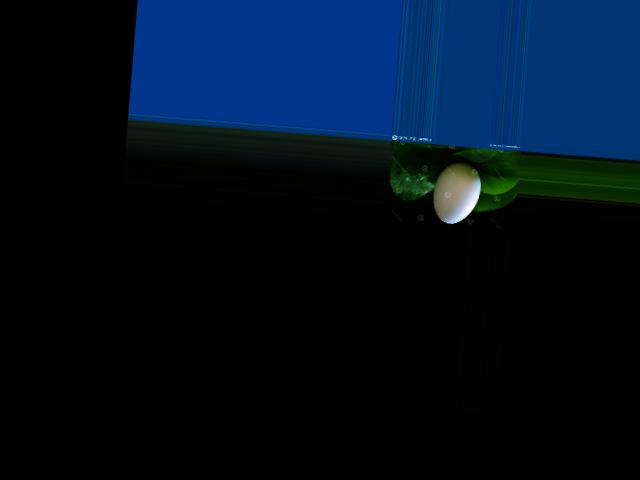egg: (431, 159, 483, 225)
